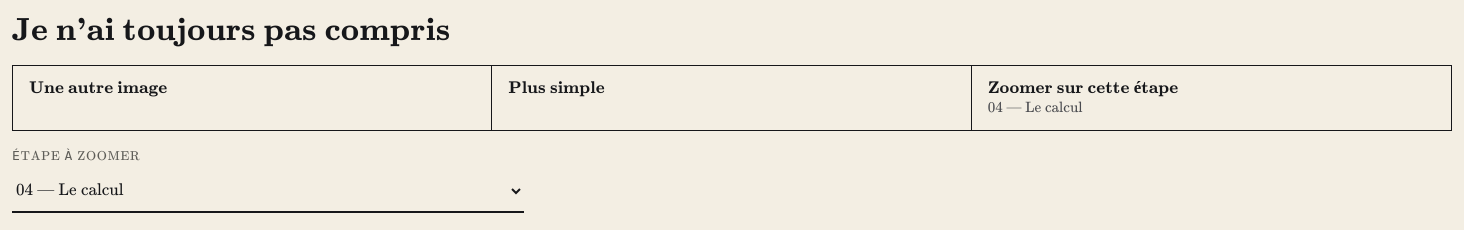
Test: Reformulate › follows the active scene until the student designates one, then keeps the choice
Select "02 — Intuition" in the dropdown labelled "Étape à zoomer" at {"x": 268, "y": 191}, box [12,169,524,213]
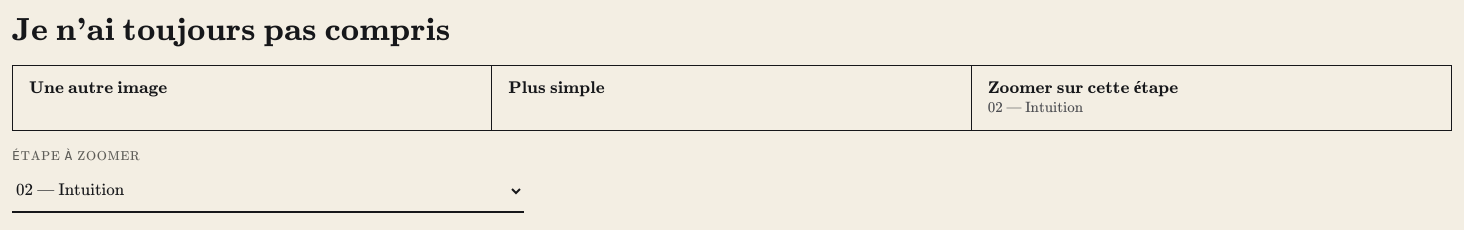
Now the button "Zoomer sur cette étape 02 — Intuition" is shown, box [972,66,1451,130]
